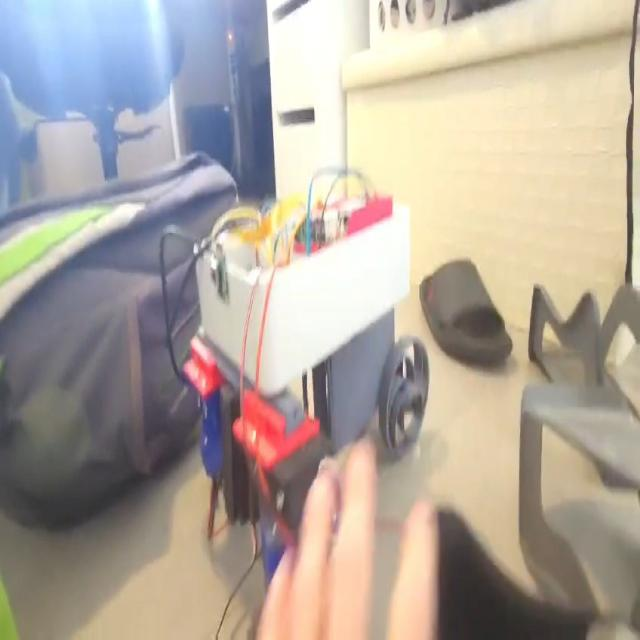Robot: (179, 191, 429, 595)
